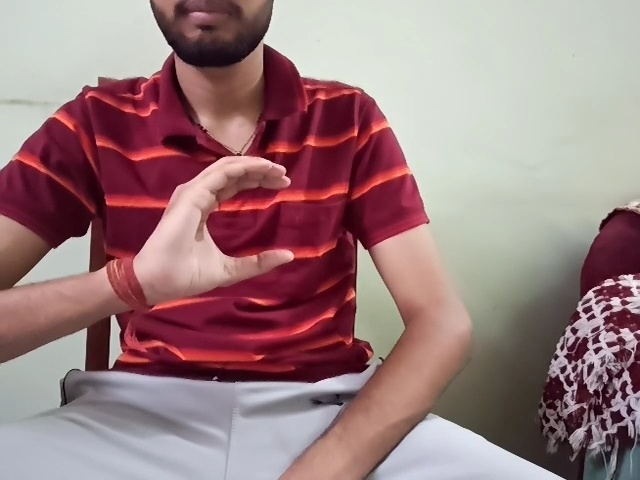C: (128, 156, 294, 305)
